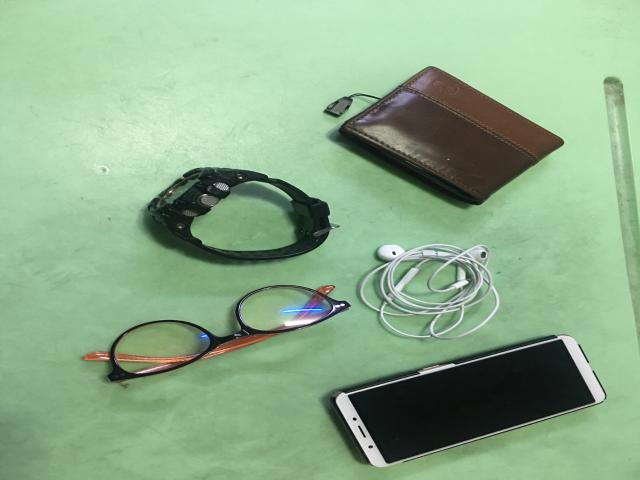Glasses: (85, 285, 350, 382)
Mobile phone: (333, 335, 607, 467)
Wallet: (340, 67, 563, 204)
Watch: (148, 168, 335, 260)
wire: (358, 244, 500, 339)
